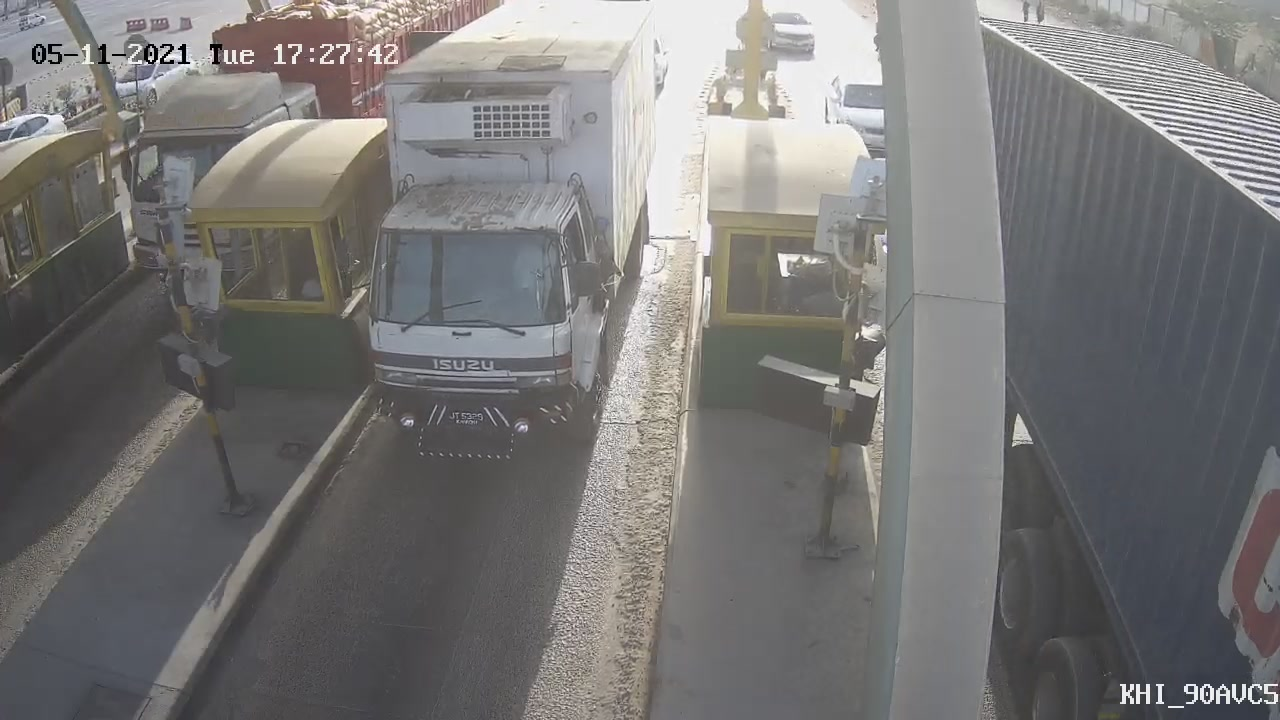F5: (311, 1, 682, 488)
